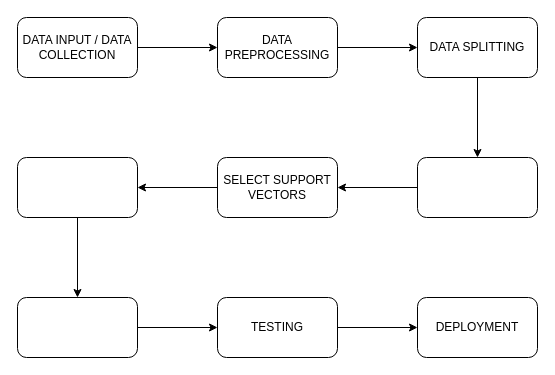
The diagram is 555 pixels wide and 375 high, and some of its shapes have lost their labels. The shapes that lost their labels are listed below. From the top down, each one's centre as x and y in pixels, then its label:
At (77,187): "CHOOSE SUITABLE KERNEL".
At (477,187): "CALCULATE DECISION BOUNDARY".
At (77,327): "TRAINING THE MODEL".
